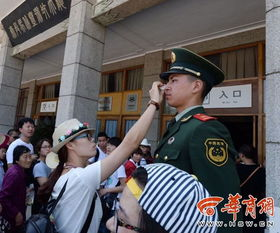10+: (2, 51, 258, 229)
